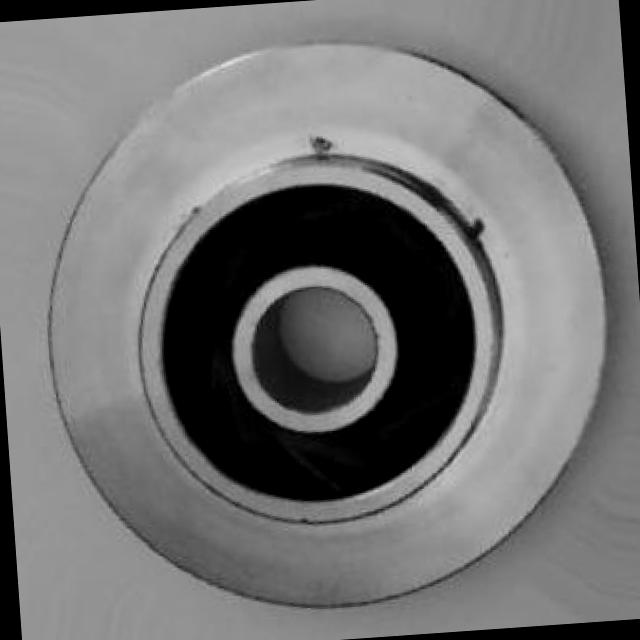Defect: (292, 123, 351, 172)
